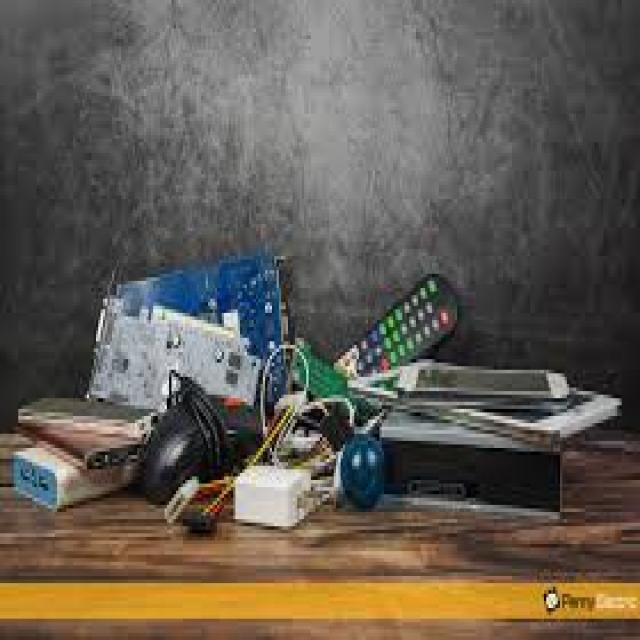hazard: (16, 273, 599, 529)
